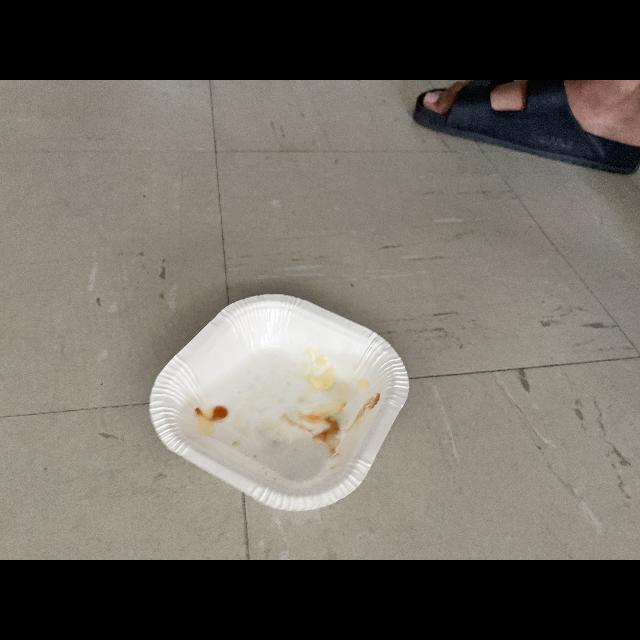cardboard_bowl: (143, 291, 414, 515)
